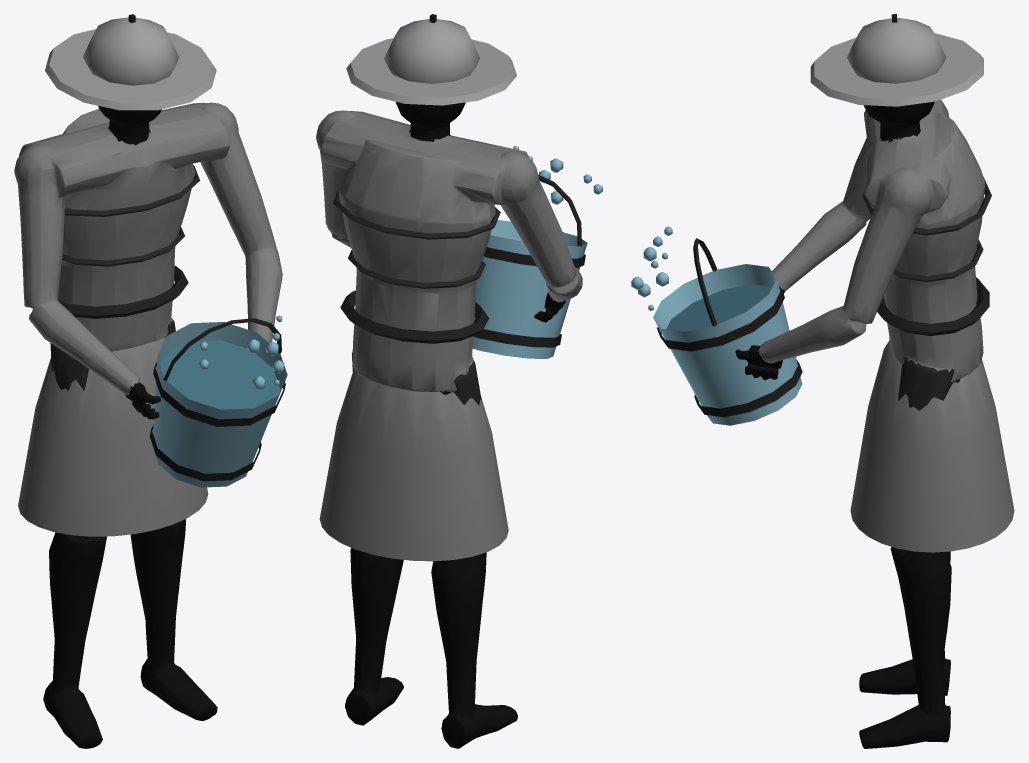
File: SM_Char_bucketguard.fbx
3 views of the same model, side by side, from view 1: azimuth 30°, elevation 25°; view 2: azimuth 150°, elevation 25°; view 3: azimuth 270°, elevation 25° (orthographic).
Visible parts, largest first — view 1: SM_Char_bucketguard; view 2: SM_Char_bucketguard; view 3: SM_Char_bucketguard.
Boxes of the visible parts, bbox=[...] form: SM_Char_bucketguard: bbox=[14, 14, 287, 748]; SM_Char_bucketguard: bbox=[316, 14, 602, 748]; SM_Char_bucketguard: bbox=[631, 14, 1014, 748].
Bounding box in the file's own units: 0.6719 × 1.83 × 0.903.
